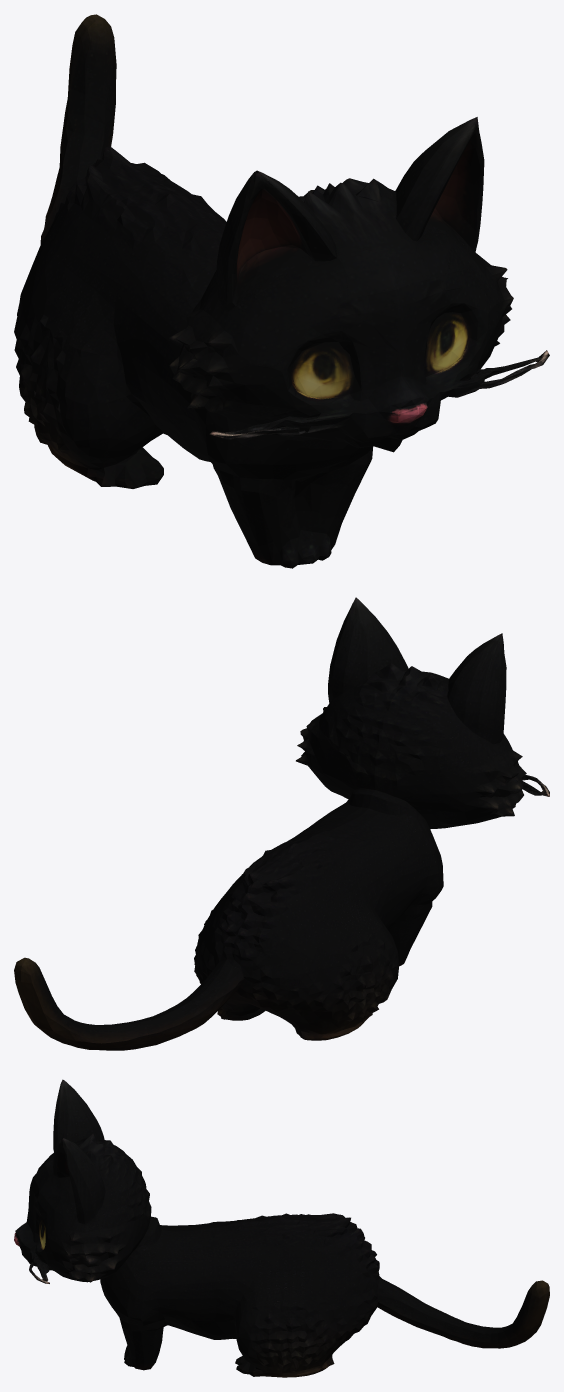
Rendered from cat_02.glb.
The picture shows the model from 3 angles, top to bottom: view 1: azimuth 30°, elevation 25°; view 2: azimuth 150°, elevation 25°; view 3: azimuth 270°, elevation 25°; orthographic projection. The views are drawn at different scales.
Visible parts, largest first — view 1: world; view 2: world; view 3: world.
Boxes of the visible parts, x1,y1,x2,y2 form: world: (14, 14, 549, 568); world: (14, 597, 549, 1050); world: (14, 1079, 549, 1377).
Size of the model in its own units: 0.4142 by 0.5216 by 1.
1 material, 1 textured.
